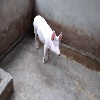heo: (31, 13, 63, 64)
